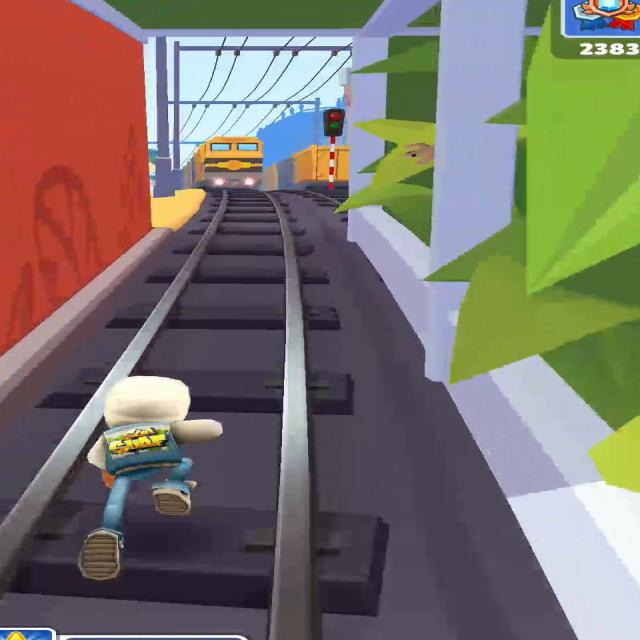block pillar: (323, 0, 638, 567)
train: (185, 137, 263, 189), (263, 145, 329, 190), (202, 135, 258, 165), (332, 146, 349, 194)
